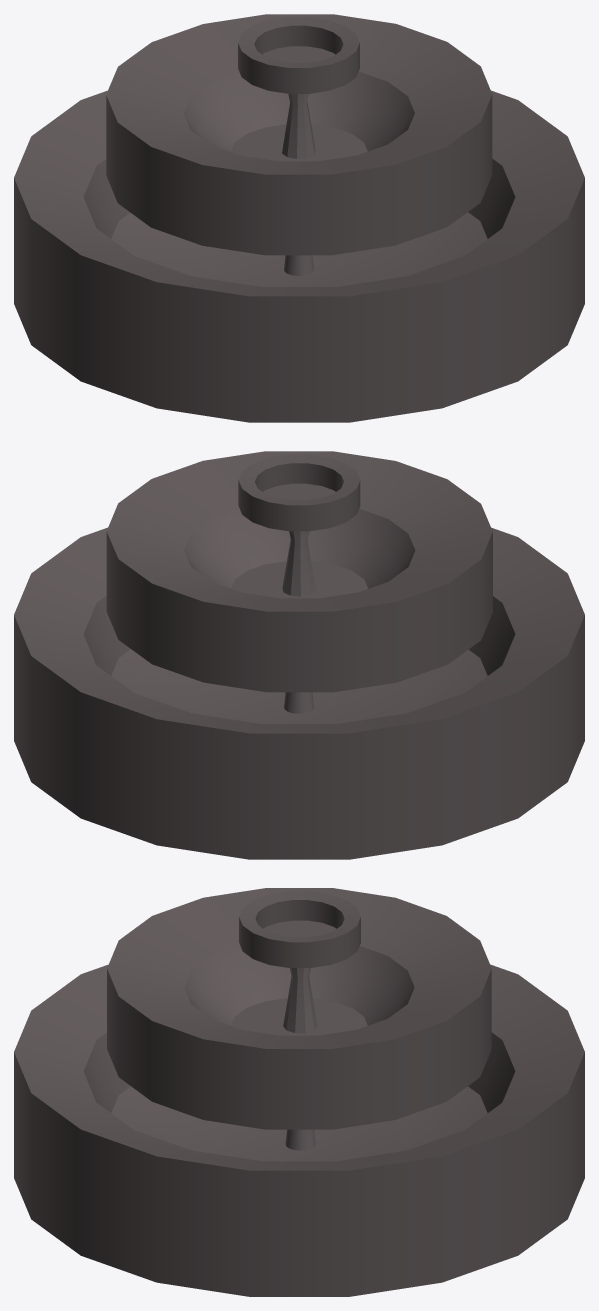
Rendered from fountain.fbx.
3 renders of one model, top to bottom at view 1: azimuth 30°, elevation 25°; view 2: azimuth 150°, elevation 25°; view 3: azimuth 270°, elevation 25°, orthographic.
Parts seen in each view (by area): view 1: Circle; view 2: Circle; view 3: Circle.
Boxes of the visible parts, left/top/right/bottom form: Circle: left=14, top=14, right=584, bottom=422; Circle: left=14, top=451, right=584, bottom=859; Circle: left=14, top=888, right=584, bottom=1296.
Size of the model in its own units: 3467 by 1777 by 3520.
Materials: 1 (1 with a texture image).
